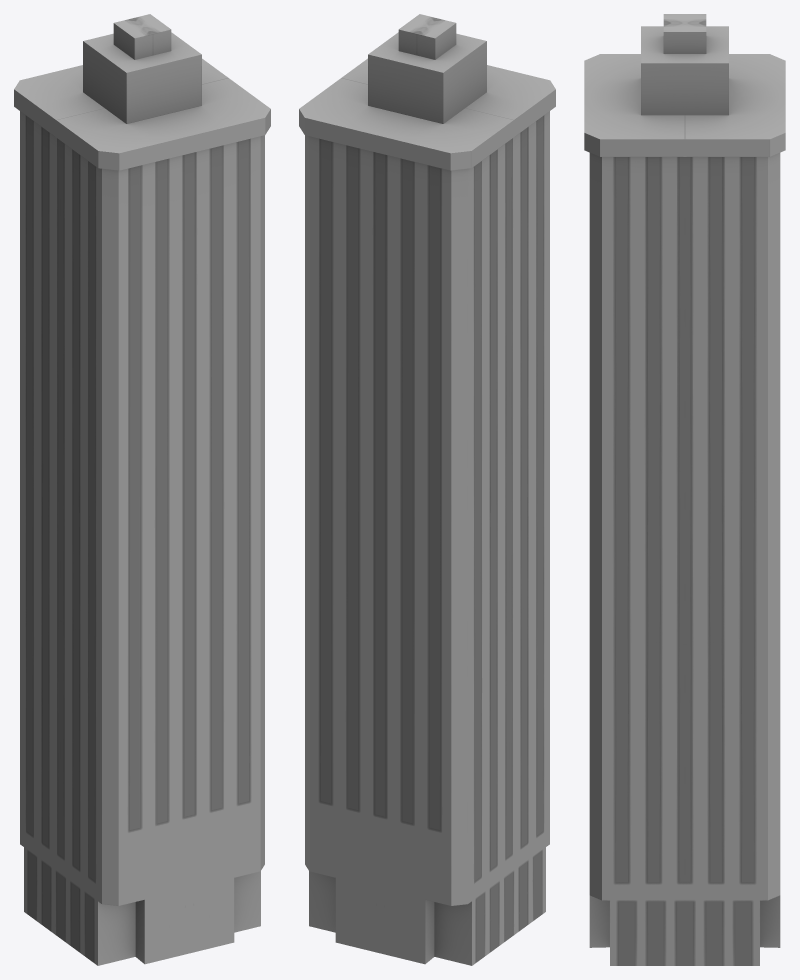
The model's file is Skyscraper_2.glb.
3 renders of one model, left to right at view 1: azimuth 30°, elevation 25°; view 2: azimuth 150°, elevation 25°; view 3: azimuth 270°, elevation 25°, orthographic.
Parts seen in each view (by area): view 1: Skyscraper_2; view 2: Skyscraper_2; view 3: Skyscraper_2.
Boxes of the visible parts, bbox=[...] form: Skyscraper_2: bbox=[14, 14, 270, 965]; Skyscraper_2: bbox=[299, 14, 555, 965]; Skyscraper_2: bbox=[584, 14, 785, 965].
Bounding box in the file's own units: 0.9127 × 4.51 × 0.9127.
Materials: 1 (1 with a texture image).
